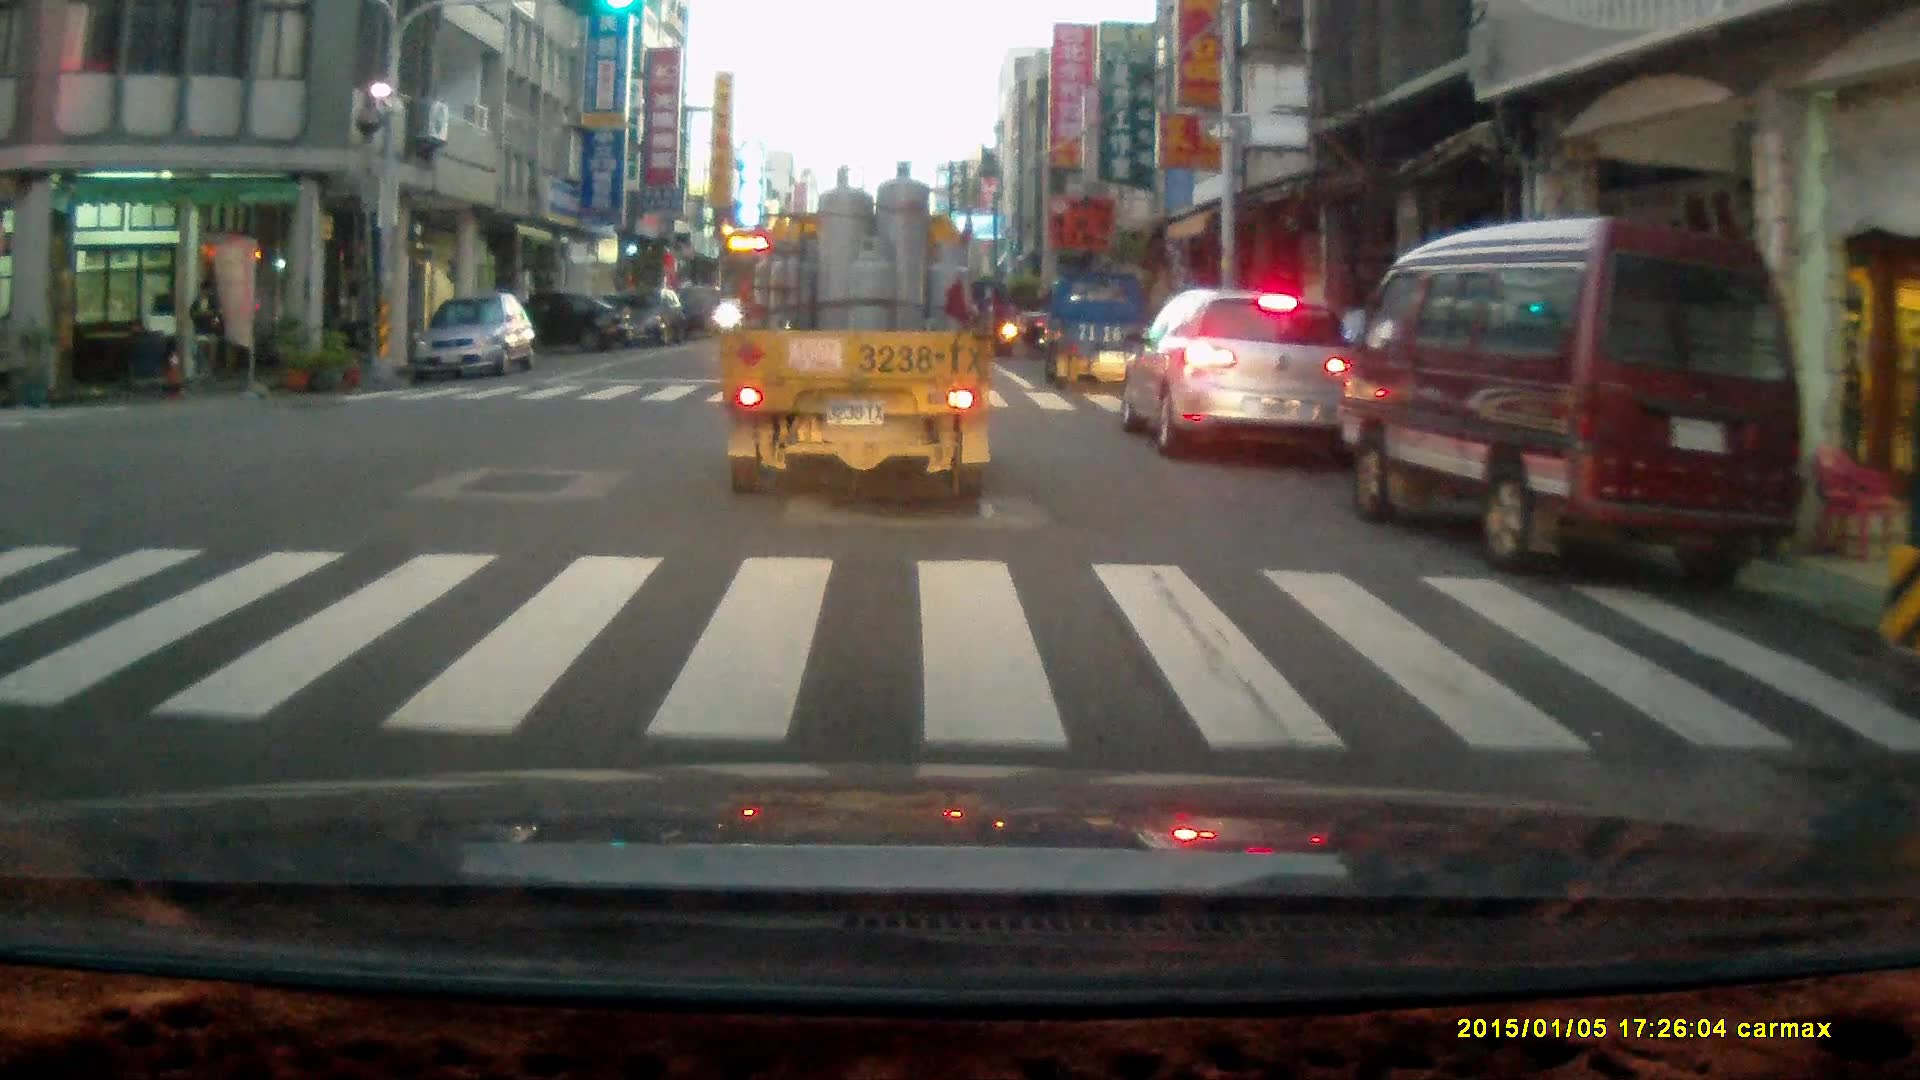pedestrian: (189, 274, 224, 392)
vehicle: (1338, 214, 1807, 596), (721, 163, 995, 508), (1121, 288, 1365, 470), (1044, 272, 1172, 405), (407, 291, 531, 384), (474, 294, 629, 361), (588, 288, 686, 348)
